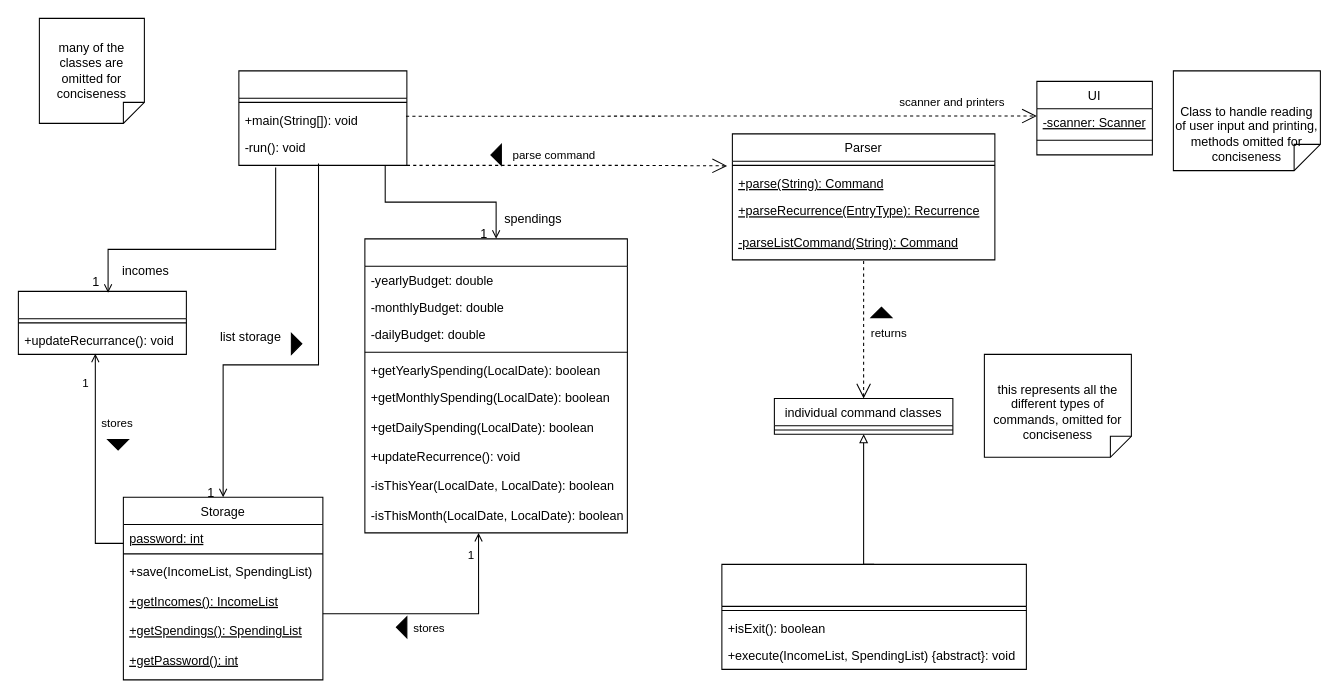
Some shapes in this 1339 by 698 pixel diagram are drawn without their labels. Each missing label, with the box of its shape:
IncomeList: (17, 290, 186, 354)
SpendingList: (364, 238, 627, 533)
Wiagi: (238, 70, 407, 165)
{abstract} Command: (721, 563, 1026, 669)
